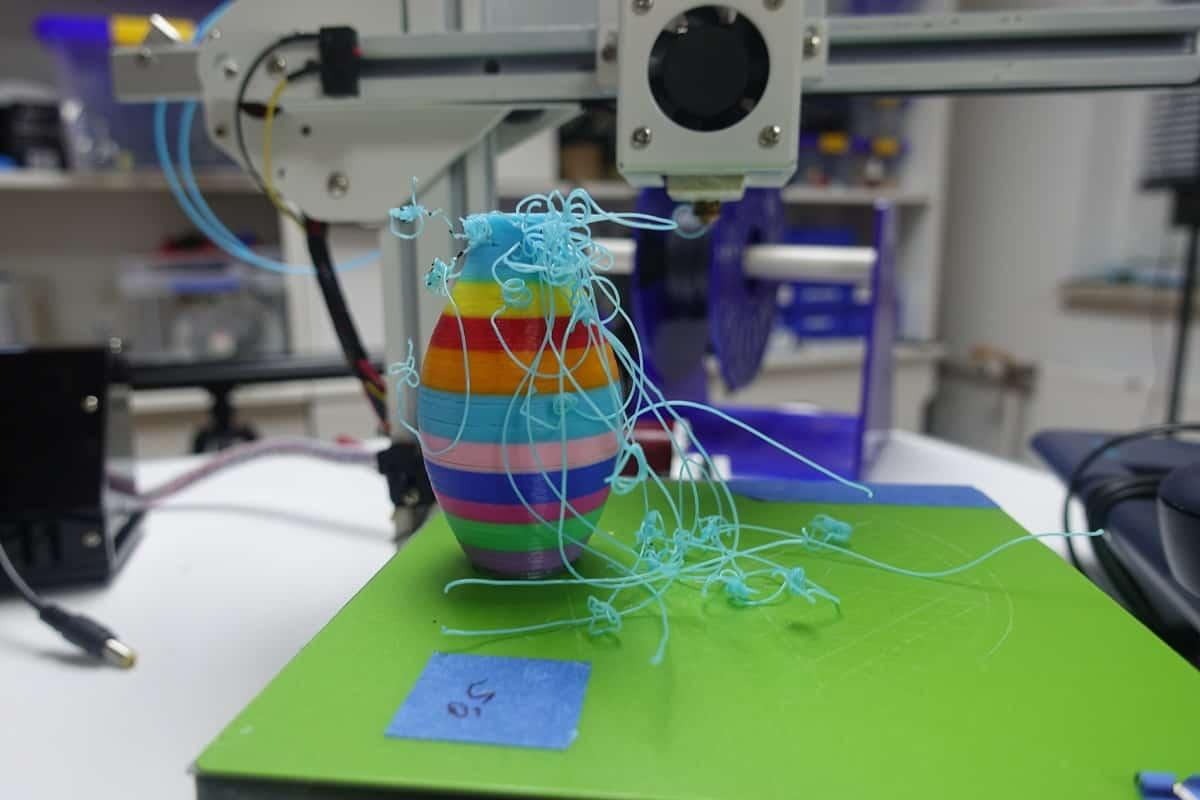Printing-Artifact: (554, 460, 900, 662), (507, 185, 627, 306)
